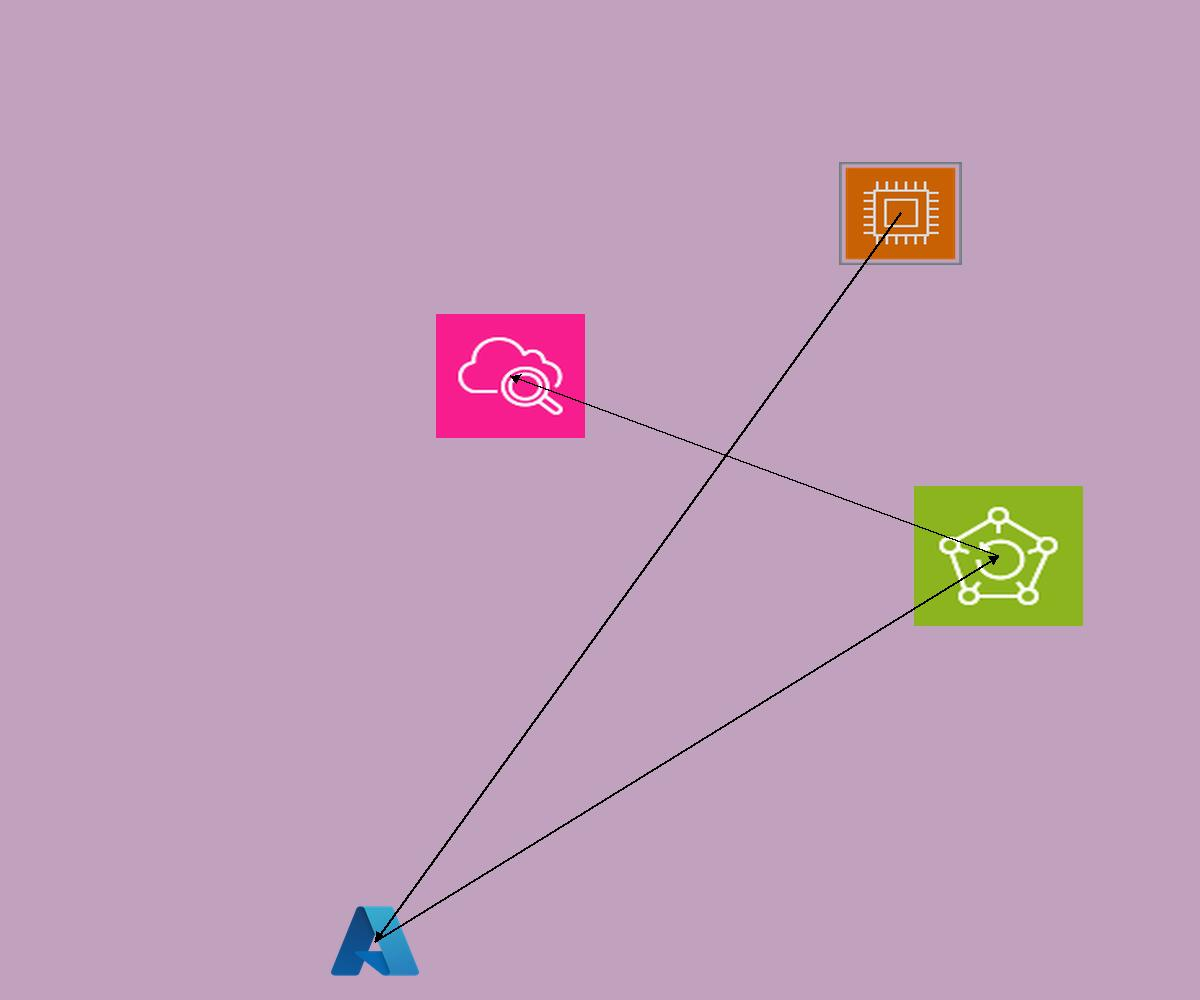AWS-Backup: (914, 486, 1083, 626)
AWS-Category_Compute: (839, 162, 962, 265)
AWS-CloudWatch: (436, 314, 585, 438)
Azure_services: (327, 901, 423, 981)
